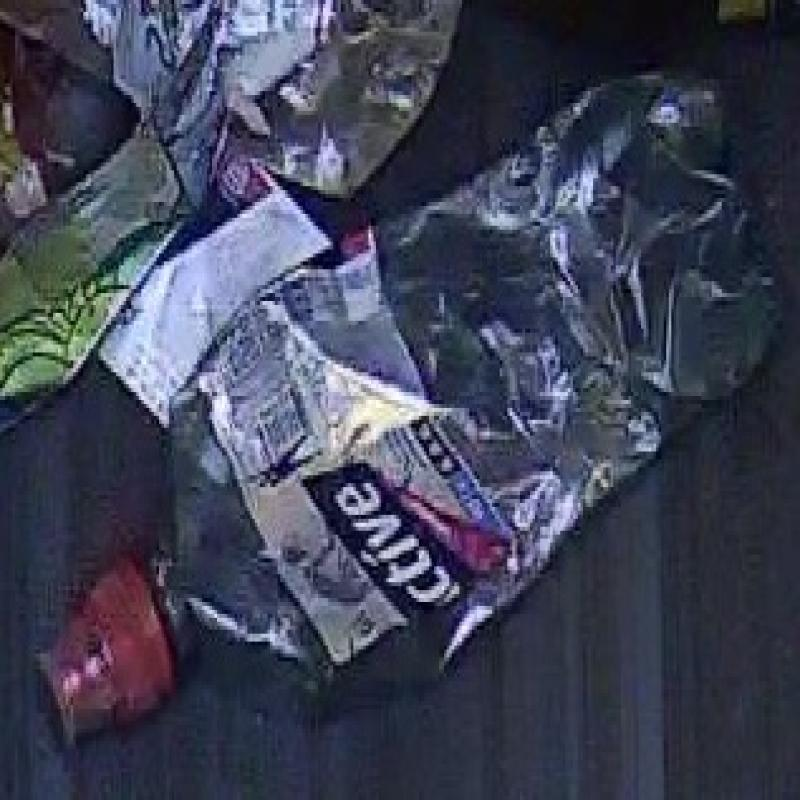botella: (38, 66, 781, 737)
